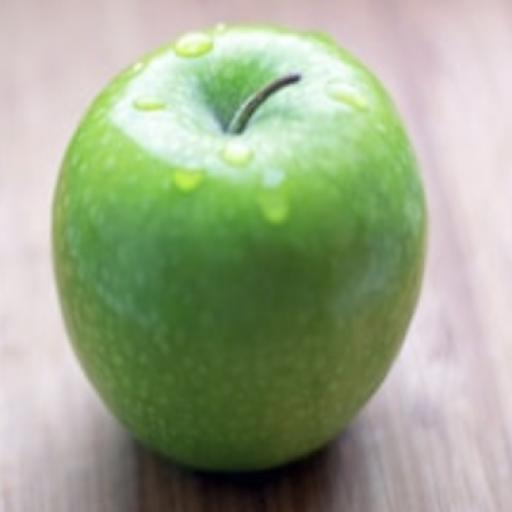apple: (53, 27, 426, 470)
